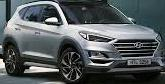Crossovers: (4, 2, 165, 84)
